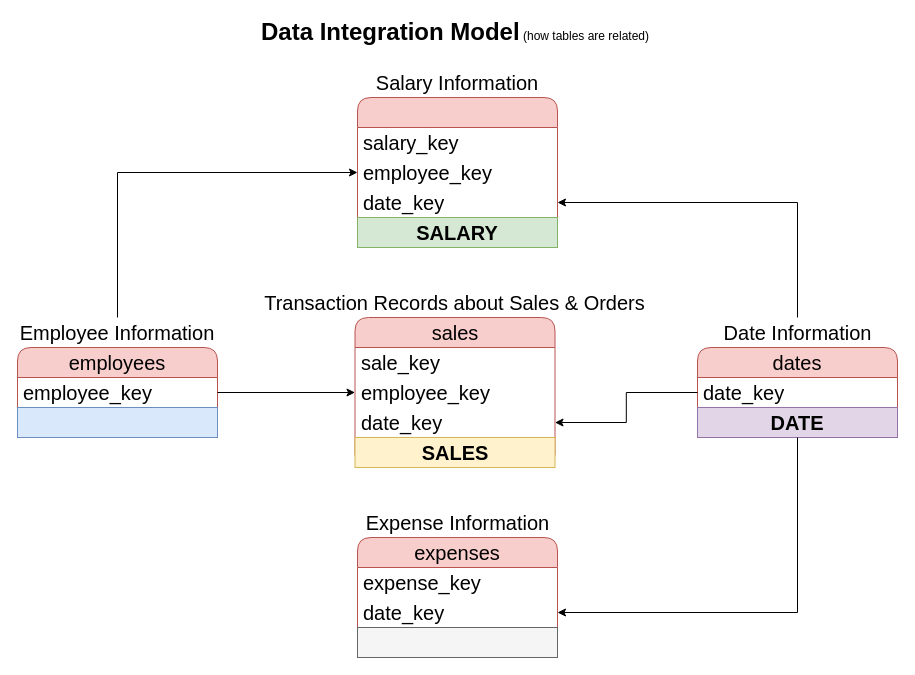
Image size: 915x675. Some labels were removed from this diagram. Each missing label, with the box of its shape:
EMPLOYEE: (16, 406, 218, 438)
EXPENSE: (356, 626, 558, 658)
salaries: (356, 96, 558, 248)
